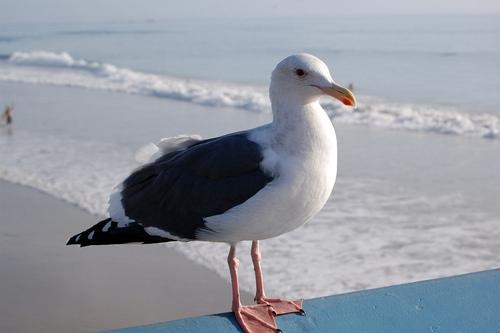bird: (70, 50, 356, 332)
